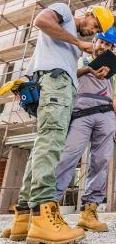boots: (24, 201, 84, 244), (7, 206, 28, 241)
hard-hat: (94, 23, 116, 43)
